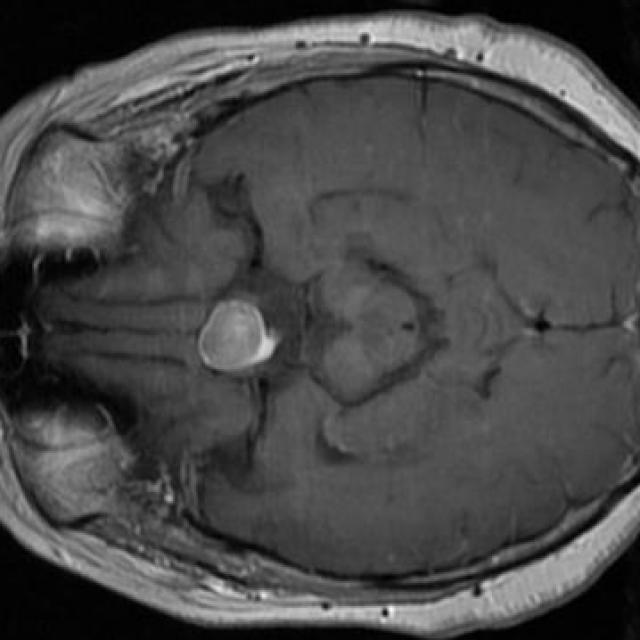pituitary: (198, 299, 276, 373)
